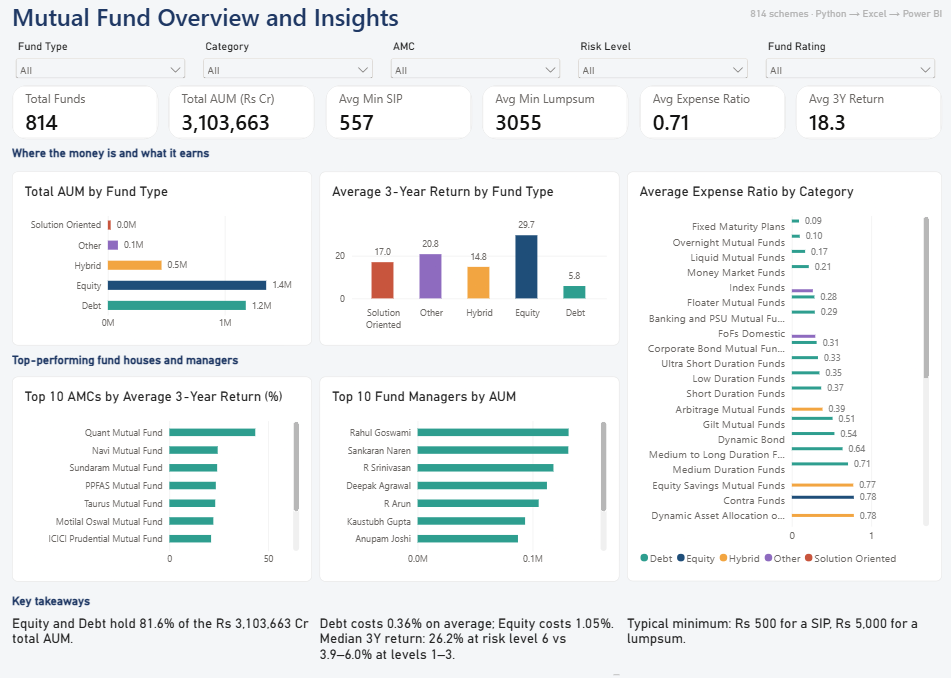

What the dashboard file says about the page in this screenshot:
{"tool":"powerbi","page":{"name":"Overview","canvas":[1280,920],"ordinal":0},"visuals":[{"type":"textbox","title":"Mutual Fund Overview and Insights","box":[20,8,900,44],"z":0},{"type":"textbox","title":"814 schemes · Python → Excel → Power BI","box":[940,16,320,30],"z":1000},{"type":"slicer","fields":{"Values":["Funds.Fund Type"]},"box":[20,62,236,50],"z":2000},{"type":"slicer","fields":{"Values":["Funds.Category"]},"box":[270,62,236,50],"z":3000},{"type":"slicer","fields":{"Values":["Funds.AMC"]},"box":[520,62,236,50],"z":4000},{"type":"slicer","fields":{"Values":["Funds.Risk Label"]},"box":[770,62,236,50],"z":5000},{"type":"slicer","fields":{"Values":["Funds.Rating Label"]},"box":[1020,62,236,50],"z":6000},{"type":"cardVisual","fields":{"Data":["Funds.Total Funds"]},"box":[20,122,195,72],"z":7000},{"type":"cardVisual","fields":{"Data":["Funds.Total AUM (Rs Cr)"]},"box":[229,122,195,72],"z":8000},{"type":"cardVisual","fields":{"Data":["Funds.Avg Min SIP"]},"box":[438,122,195,72],"z":9000},{"type":"cardVisual","fields":{"Data":["Funds.Avg Min Lumpsum"]},"box":[647,122,195,72],"z":10000},{"type":"cardVisual","fields":{"Data":["Funds.Avg Expense Ratio"]},"box":[856,122,195,72],"z":11000},{"type":"cardVisual","fields":{"Data":["Funds.Avg 3Y Return"]},"box":[1065,122,195,72],"z":12000},{"type":"textbox","title":"Where the money is and what it earns","box":[20,204,810,28],"z":13000},{"type":"textbox","title":"Top-performing fund houses and managers","box":[20,478,810,28],"z":14000},{"type":"textbox","title":"Key takeaways","box":[20,726,810,28],"z":15000},{"type":"barChart","title":"Total AUM by Fund Type","fields":{"Category":["Funds.Fund Type"],"Y":["Funds.Total AUM (Rs Cr)"]},"box":[20,236,400,232],"z":16000},{"type":"columnChart","title":"Average 3-Year Return by Fund Type","fields":{"Category":["Funds.Fund Type"],"Y":["Funds.Avg 3Y Return"]},"box":[430,236,400,232],"z":17000},{"type":"clusteredBarChart","title":"Average Expense Ratio by Category","fields":{"Category":["Funds.Category"],"Series":["Funds.Fund Type"],"Y":["Funds.Avg Expense Ratio"]},"box":[840,236,420,480],"z":18000},{"type":"clusteredBarChart","title":"Top 10 AMCs by Average 3-Year Return (%)","fields":{"Category":["Funds.AMC"],"Y":["Funds.Avg 3Y Return (AMC 3+ funds)"]},"box":[20,510,400,206],"z":19000},{"type":"clusteredBarChart","title":"Top 10 Fund Managers by AUM","fields":{"Category":["Funds.Fund Manager"],"Y":["Funds.Total AUM (Rs Cr)"]},"box":[430,510,400,206],"z":20000},{"type":"textbox","box":[20,760,400,140],"z":20001},{"type":"textbox","box":[430,760,400,140],"z":20002},{"type":"textbox","box":[840,760,420,140],"z":20003}]}

Visuals, with their boxes in screenshot pixels (x1, y1, x2, y2), scaled from the page's 1280x920 canvas onto the 951x678 screenshot:
"Mutual Fund Overview and Insights" textbox: bbox=(15, 6, 684, 38)
"814 schemes · Python → Excel → Power BI" textbox: bbox=(698, 12, 936, 34)
slicer - Funds.Fund Type: bbox=(15, 46, 190, 83)
slicer - Funds.Category: bbox=(201, 46, 376, 83)
slicer - Funds.AMC: bbox=(386, 46, 562, 83)
slicer - Funds.Risk Label: bbox=(572, 46, 747, 83)
slicer - Funds.Rating Label: bbox=(758, 46, 933, 83)
cardVisual - Funds.Total Funds: bbox=(15, 90, 160, 143)
cardVisual - Funds.Total AUM (Rs Cr): bbox=(170, 90, 315, 143)
cardVisual - Funds.Avg Min SIP: bbox=(325, 90, 470, 143)
cardVisual - Funds.Avg Min Lumpsum: bbox=(481, 90, 626, 143)
cardVisual - Funds.Avg Expense Ratio: bbox=(636, 90, 781, 143)
cardVisual - Funds.Avg 3Y Return: bbox=(791, 90, 936, 143)
"Where the money is and what it earns" textbox: bbox=(15, 150, 617, 171)
"Top-performing fund houses and managers" textbox: bbox=(15, 352, 617, 373)
"Key takeaways" textbox: bbox=(15, 535, 617, 556)
"Total AUM by Fund Type" barChart: bbox=(15, 174, 312, 345)
"Average 3-Year Return by Fund Type" columnChart: bbox=(319, 174, 617, 345)
"Average Expense Ratio by Category" clusteredBarChart: bbox=(624, 174, 936, 528)
"Top 10 AMCs by Average 3-Year Return (%)" clusteredBarChart: bbox=(15, 376, 312, 528)
"Top 10 Fund Managers by AUM" clusteredBarChart: bbox=(319, 376, 617, 528)
textbox: bbox=(15, 560, 312, 663)
textbox: bbox=(319, 560, 617, 663)
textbox: bbox=(624, 560, 936, 663)
